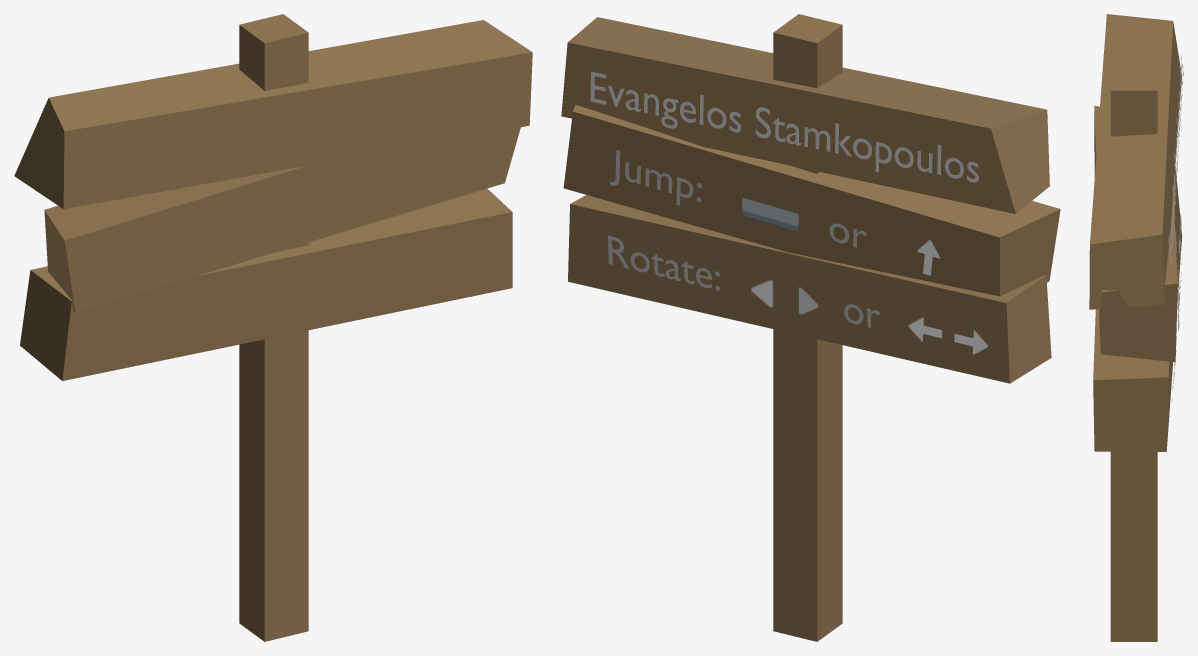
File: sign1.gltf
3 views of the same model, side by side, from view 1: azimuth 30°, elevation 25°; view 2: azimuth 150°, elevation 25°; view 3: azimuth 270°, elevation 25° (orthographic). The views are drawn at different scales.
Parts seen in each view (by area): view 1: Cube.001; view 2: Cube.001, Text, Text.002, Text.001, icons8-space-key-48; view 3: Cube.001, Text.
Boxes of the visible parts, x1,y1,x2,y2 form: Cube.001: (14, 14, 532, 641); Cube.001: (561, 14, 1060, 641); Text: (590, 71, 978, 182); Text.002: (608, 235, 879, 327); Text.001: (610, 150, 866, 247); icons8-space-key-48: (742, 197, 798, 231); Cube.001: (1089, 14, 1182, 641); Text: (1168, 57, 1183, 265).
Bounding box in the file's own units: 2.14 × 2.6 × 0.4023.
Materials: 8 (6 with a texture image).
